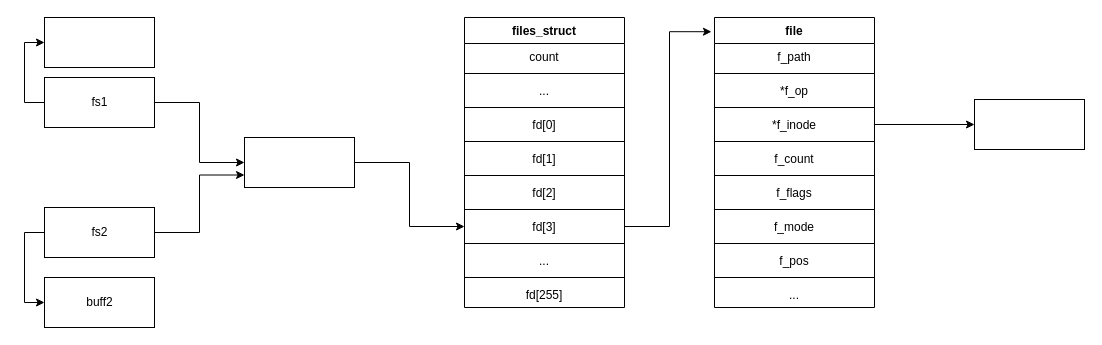
Some shapes in this 1102 by 345 pixel diagram are drawn without their labels. Here are the shapes that lost their labels. From the top down, the centre of each, then its label:
point 99,42: buff1
point 1029,124: inode
point 299,162: fd
